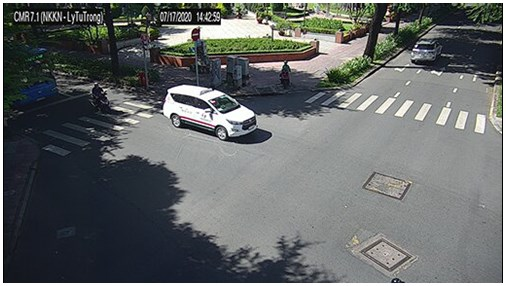xe_buyt: (9, 47, 58, 107)
xe_hoi: (412, 37, 443, 65)
xe_may: (88, 82, 111, 113), (280, 60, 292, 87)
xe_taxi: (162, 84, 258, 142)
